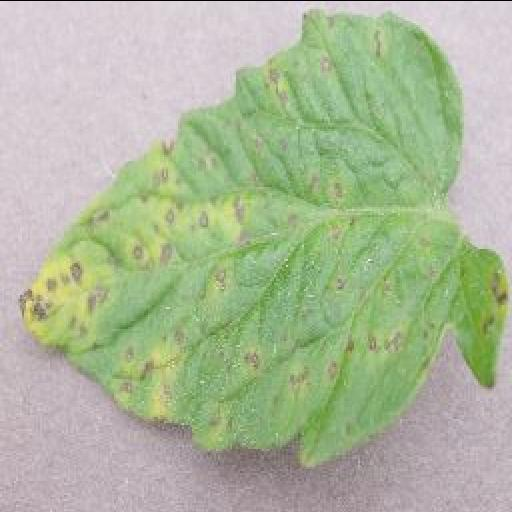disease_tomato: (20, 6, 512, 464)
